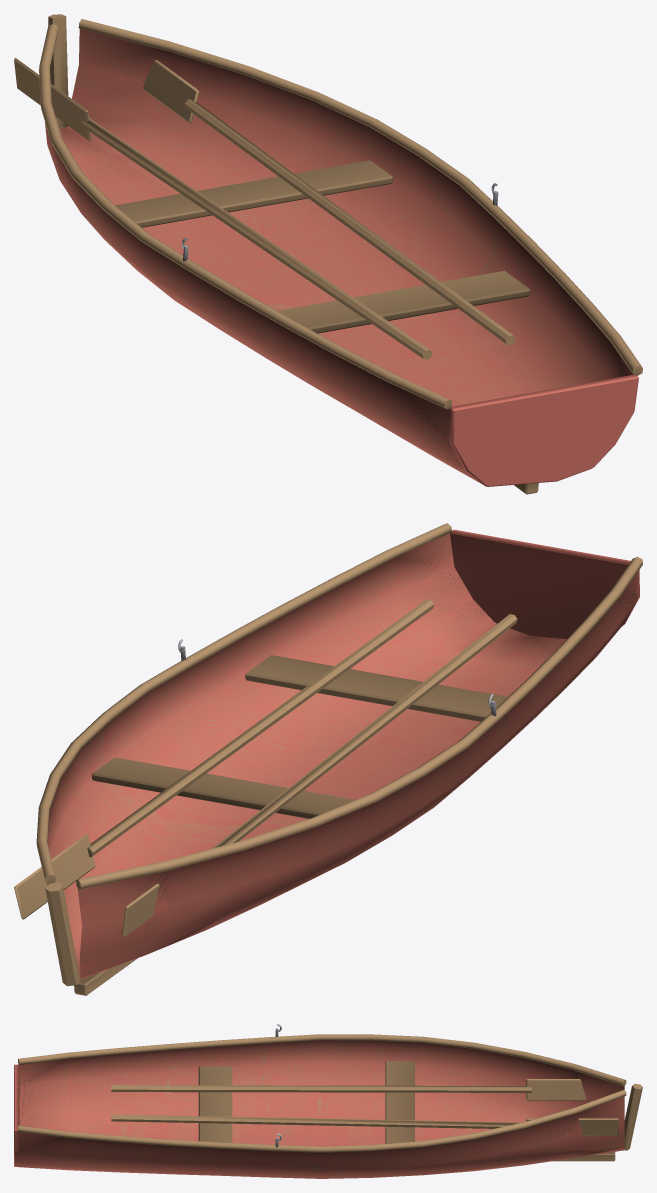
The model's file is boat.glb.
The picture shows the model from 3 angles, top to bottom: view 1: azimuth 30°, elevation 25°; view 2: azimuth 150°, elevation 25°; view 3: azimuth 270°, elevation 25°; orthographic projection. The views are drawn at different scales.
Parts seen in each view (by area): view 1: PART; view 2: PART; view 3: PART.
Boxes of the visible parts, bbox=[...] form: PART: bbox=[14, 14, 642, 494]; PART: bbox=[14, 523, 642, 995]; PART: bbox=[14, 1024, 642, 1178].
Size of the model in its own units: 1.3 by 0.5496 by 3.4.
